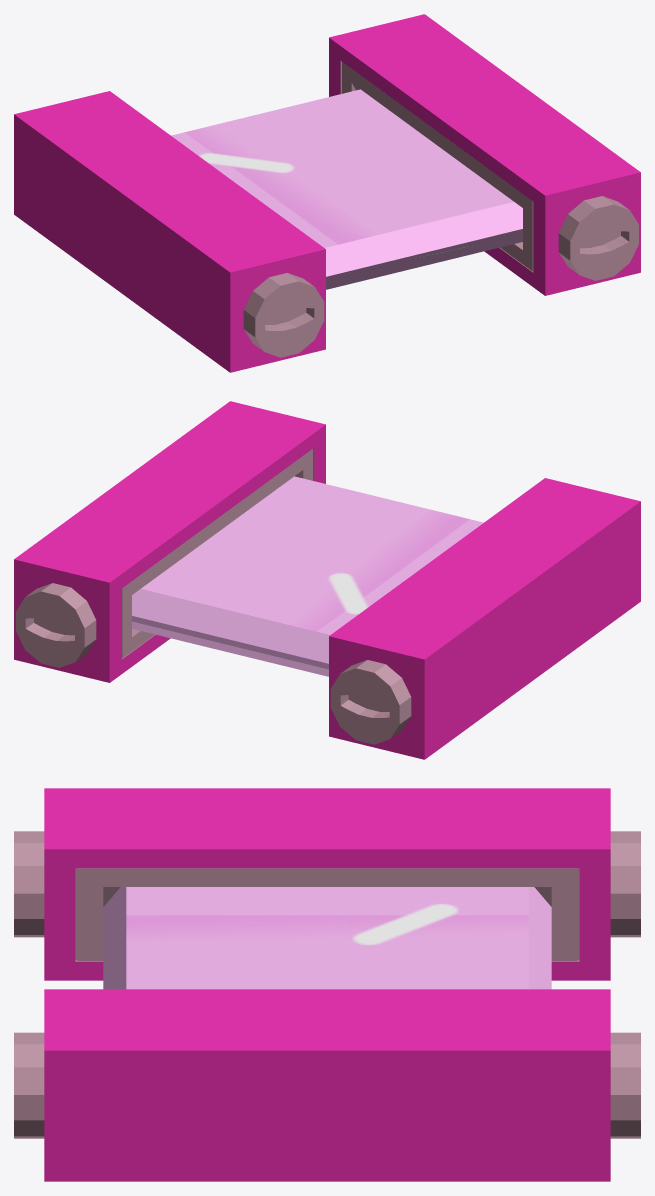
The model's file is OBS0110004.fbx.
3 views of the same model, one above another, from view 1: azimuth 30°, elevation 25°; view 2: azimuth 150°, elevation 25°; view 3: azimuth 270°, elevation 25° (orthographic). The views are drawn at different scales.
Parts seen in each view (by area): view 1: smOBS0110004; view 2: smOBS0110004; view 3: smOBS0110004.
Part boxes in pixels (box(x1,y1,x2,y2)): smOBS0110004: box(14, 14, 640, 372); smOBS0110004: box(14, 401, 640, 759); smOBS0110004: box(14, 788, 640, 1181).
Bounding box in the file's own units: 312 × 72.67 × 315.
Materials: 1 (1 with a texture image).
